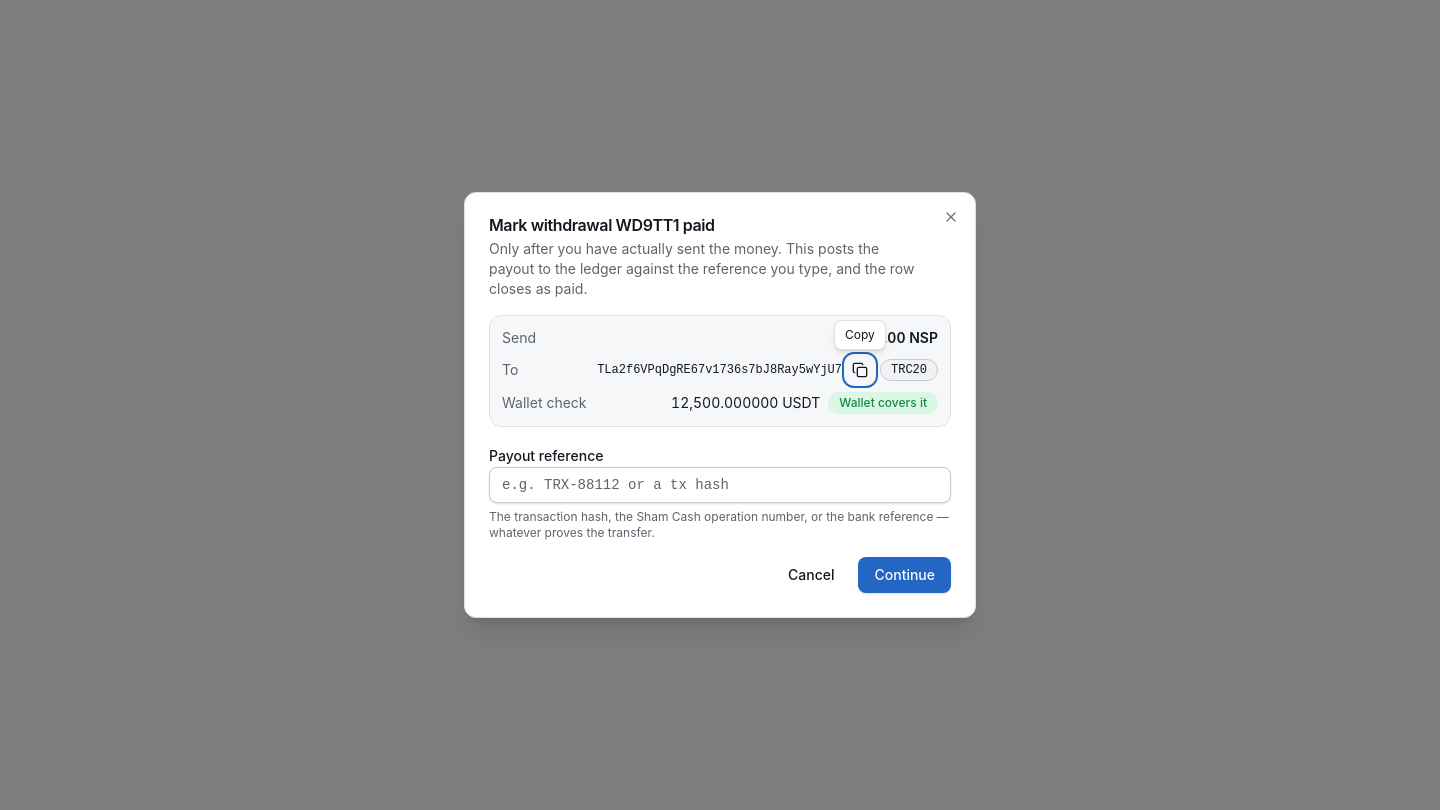
it: MarkPaidDialog › will not continue without a reference
Step 1. Click the button "Continue" → (905, 575), box 858,557 -> 951,593
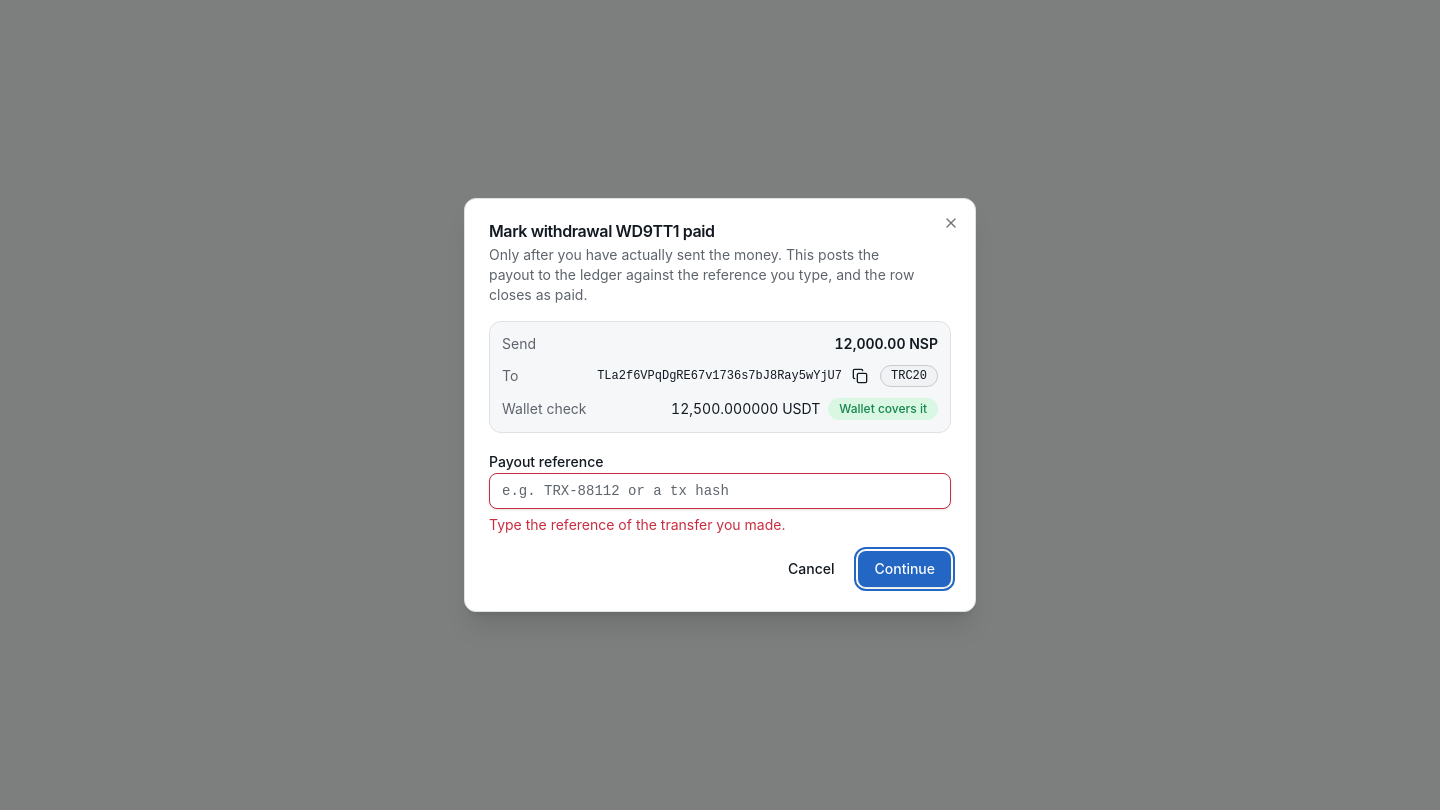
Expected: the message reads "Type the reference of the transfer you made.", 489,516 -> 786,533
